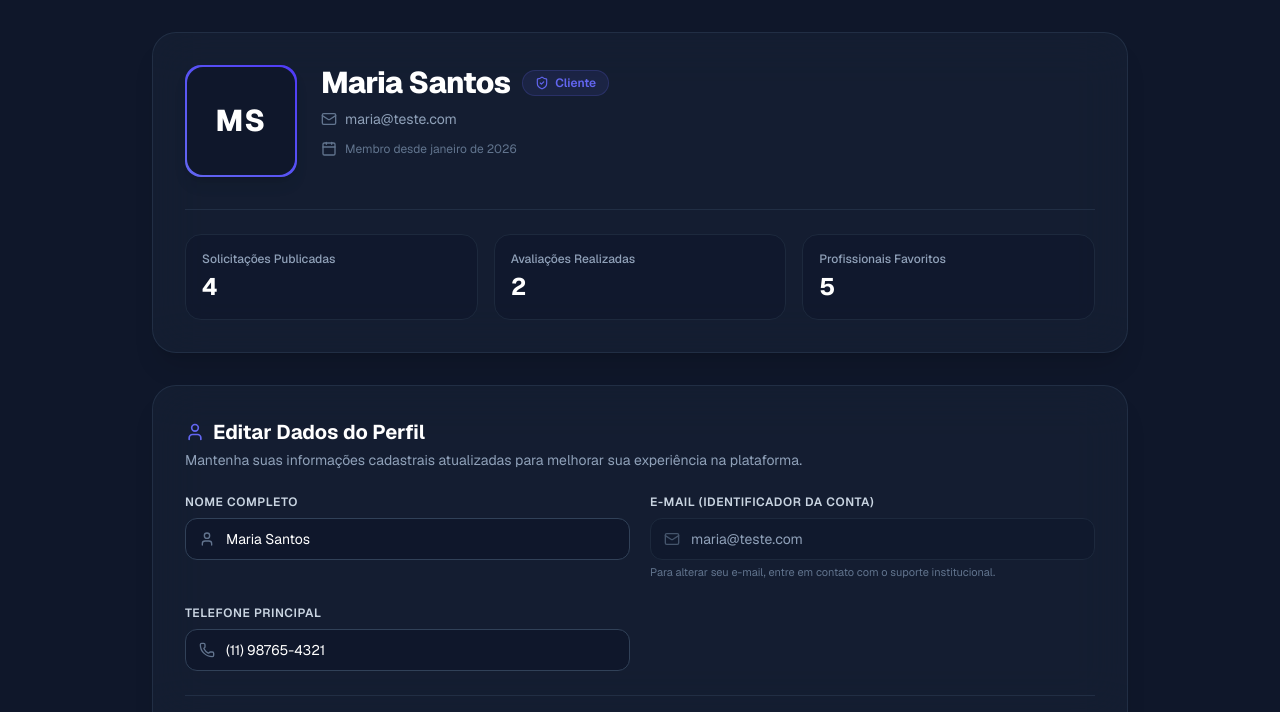
it: UI: PerfilClient › deve submeter a atualização com sucesso e exibir aviso
Replace the text in the field labelled "Nome Completo" with "Maria Silva Santos": (408, 539) [185,518,630,560]
(page scrolled)
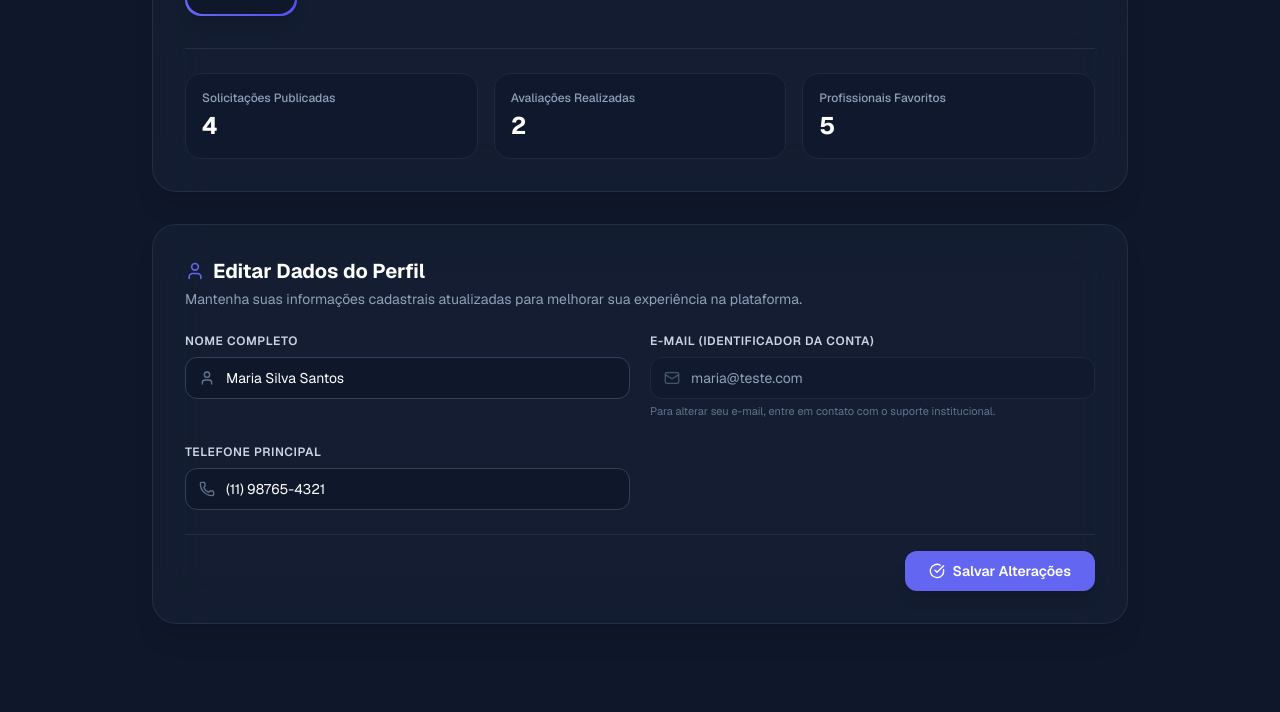
Click the button "Salvar Alterações": (1000, 570) [904,550,1095,590]
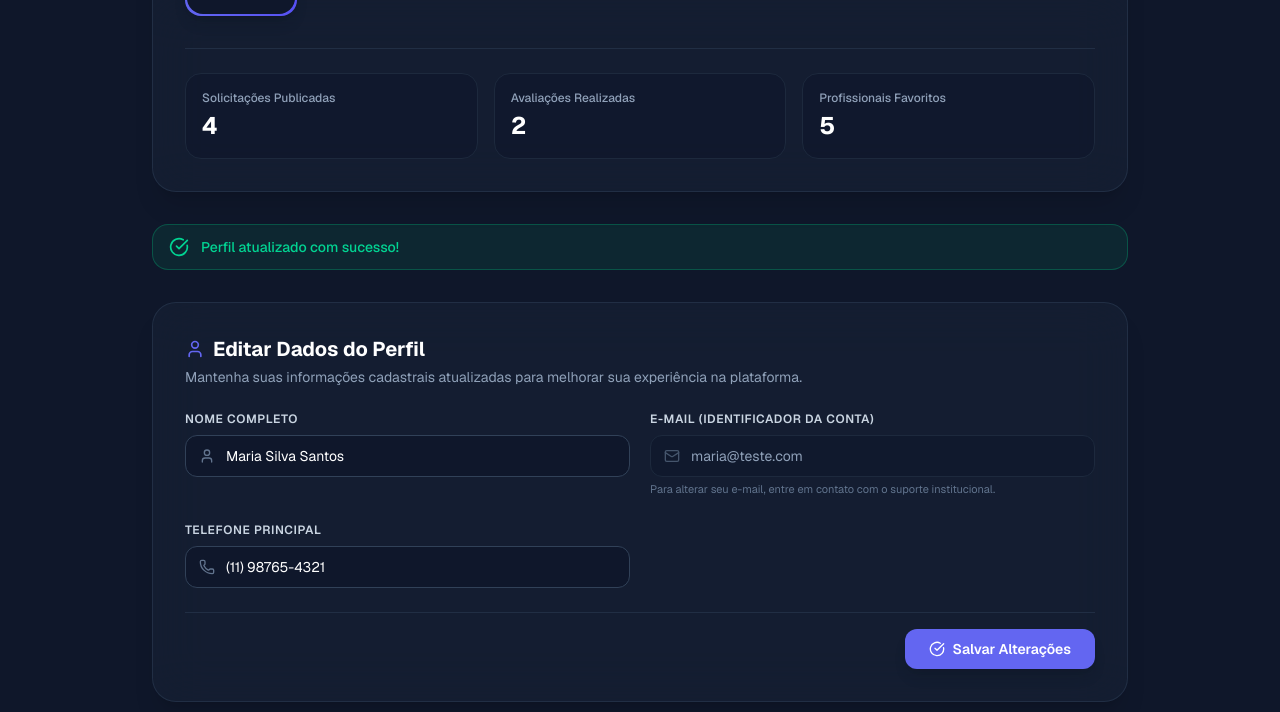
Expected: the text "Perfil atualizado com sucesso!" is shown, [201,237,399,257]
